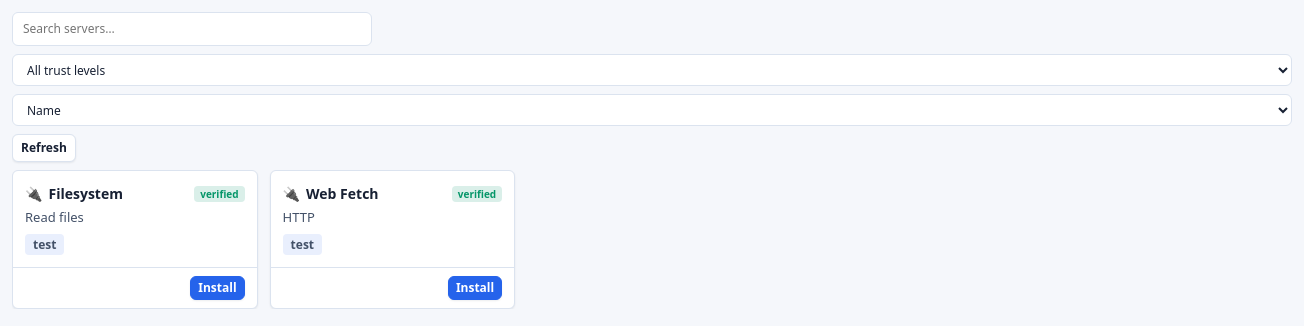
Test: CatalogList.vue › search filtering › filters cards as the search input changes
Type "filesystem" into the search field with test id "catalog-search".
click(192, 29); type("filesystem")  # box x1=12 y1=12 x2=372 y2=46
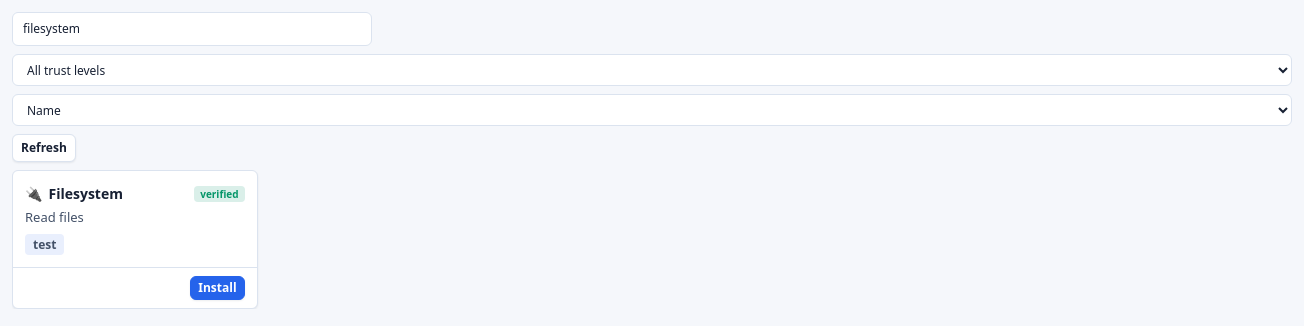
Expected: the text "Filesystem" is shown, x1=48 y1=183 x2=123 y2=204
Now the text "Web Fetch" is gone
